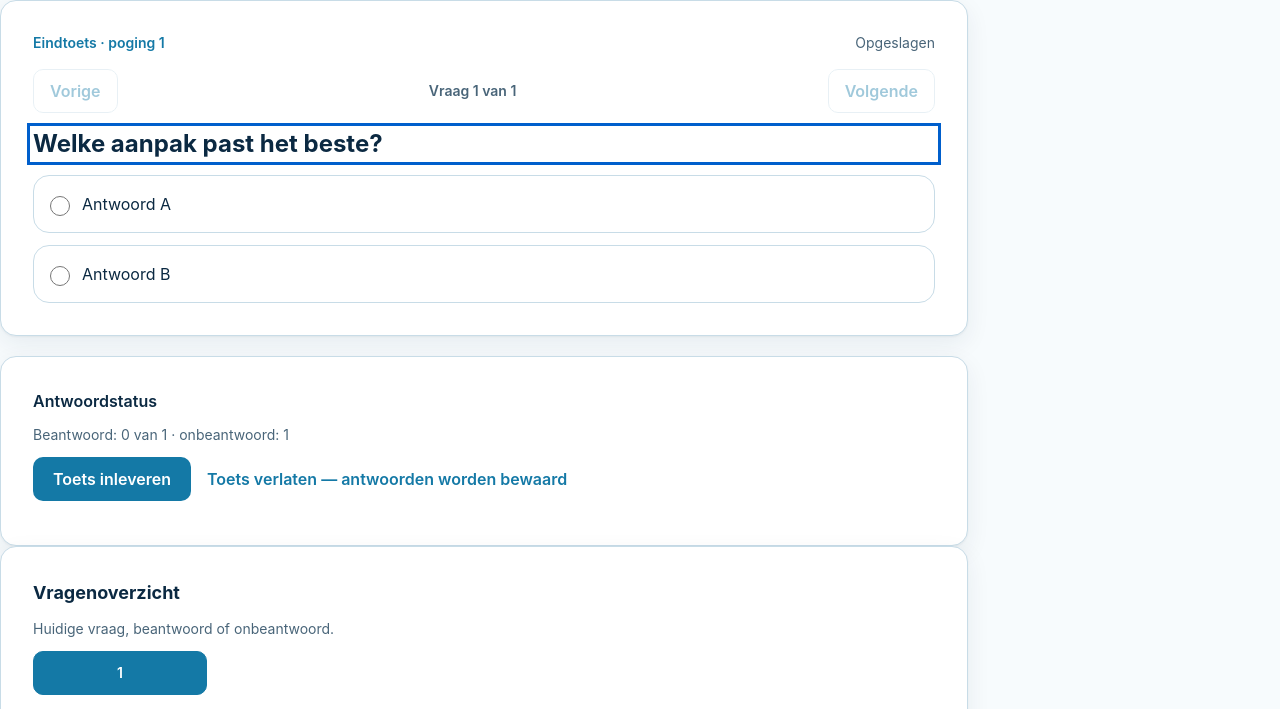
Scenario: exam-inleverdialoog toegankelijkheid en regressies › houdt toetsenbordfocus in de dialoog en herstelt focus na Escape
Click the button "Toets inleveren" at (112, 479), box 33,457 -> 191,501
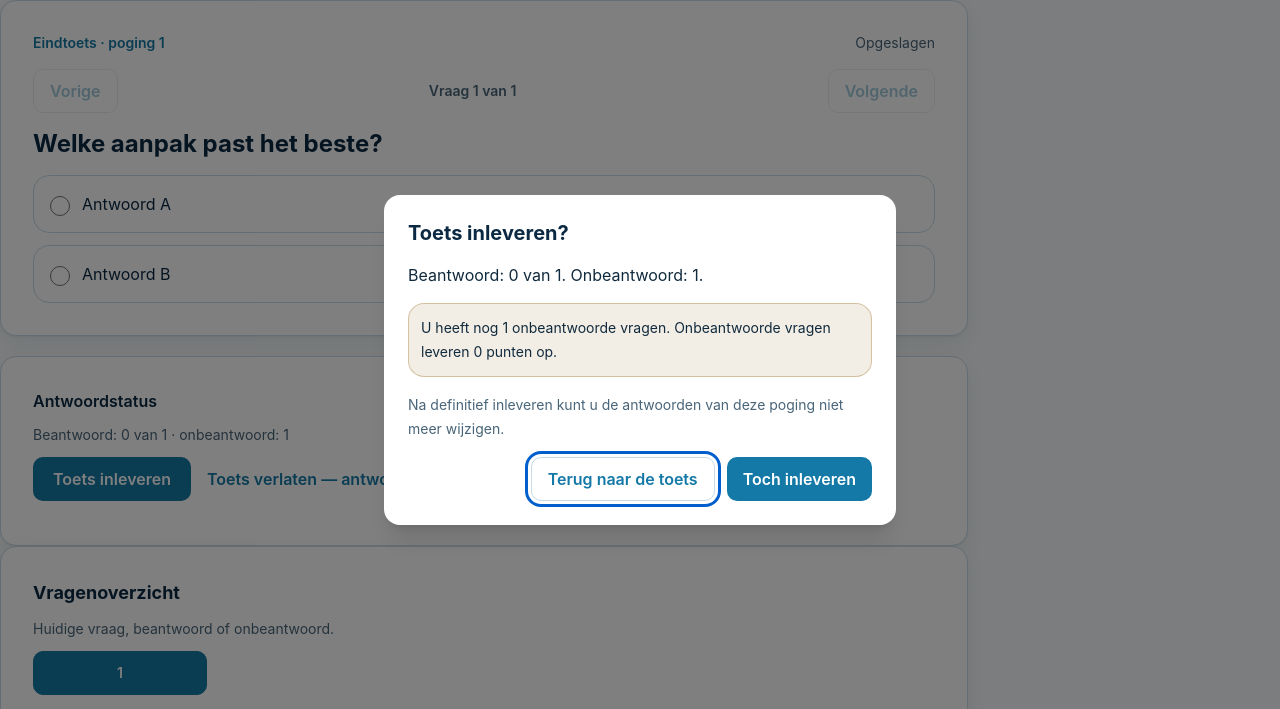
Press Tab in the button "Terug naar de toets", box 531,457 -> 715,501
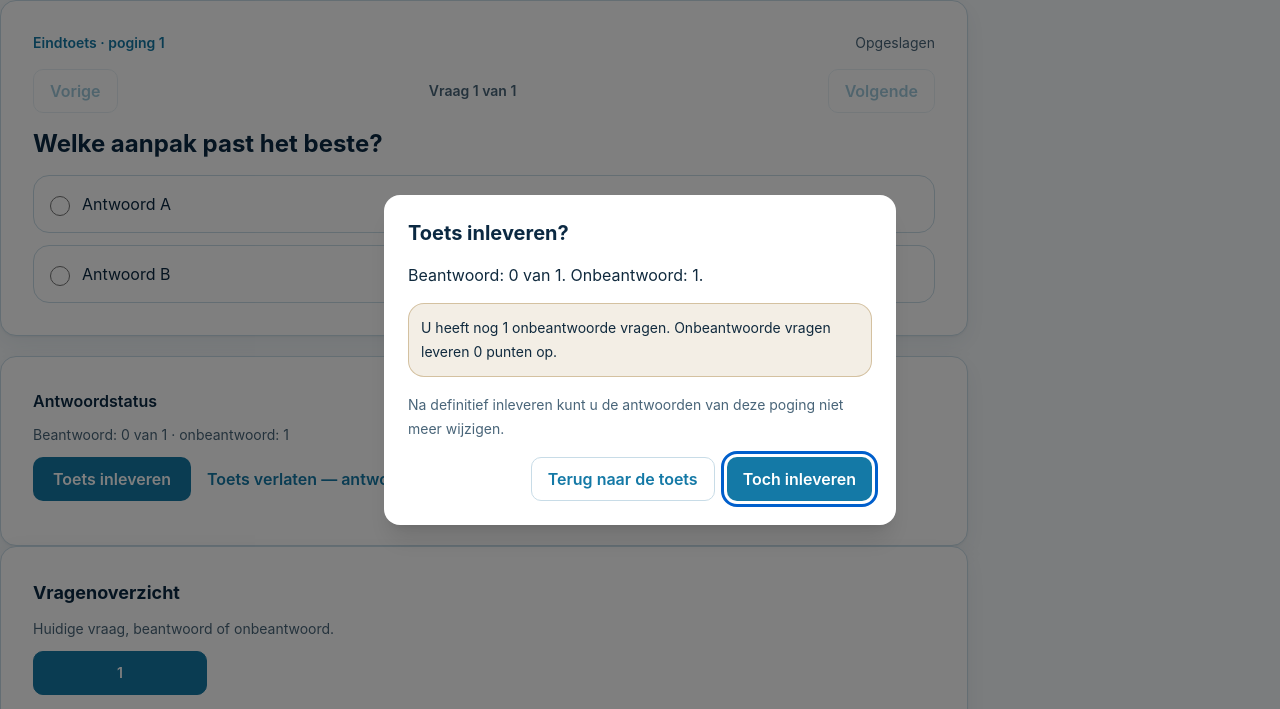
Press Tab in the button "Toch inleveren", box 727,457 -> 872,501
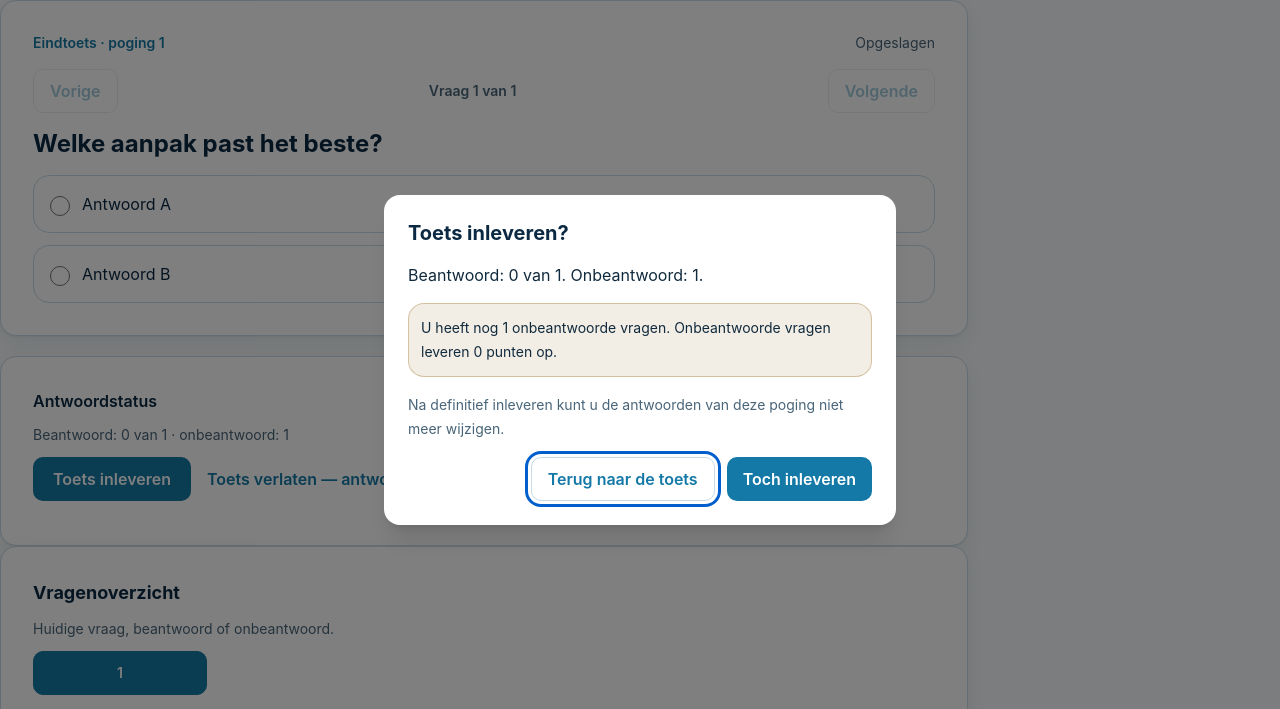
Press Tab in the button "Terug naar de toets", box 531,457 -> 715,501
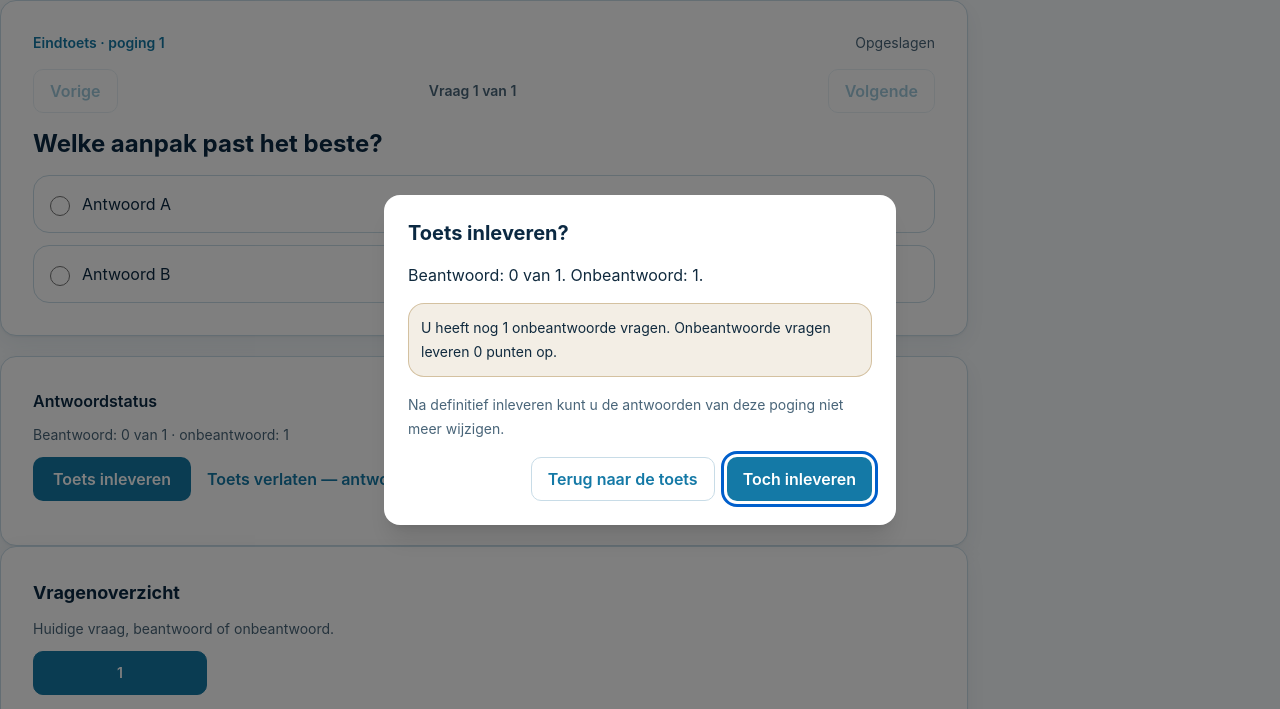
Press Escape in the button "Toch inleveren", box 727,457 -> 872,501
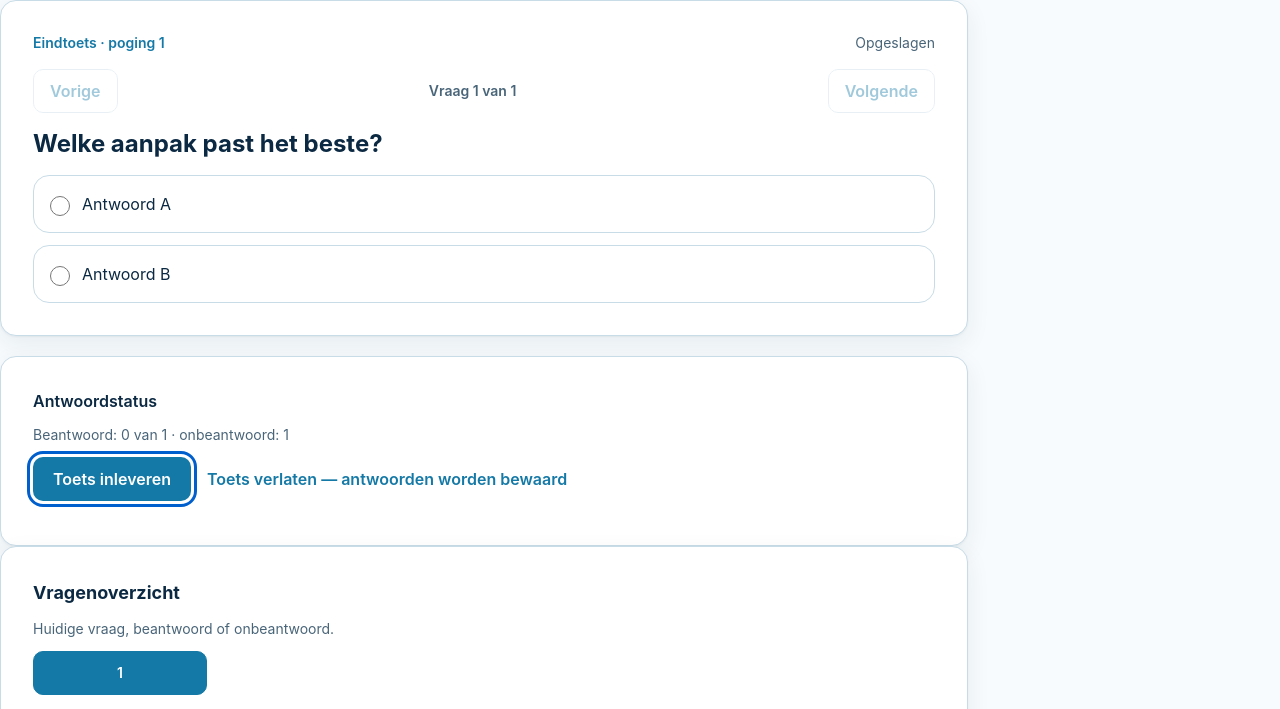
Expected: the dialog is gone
